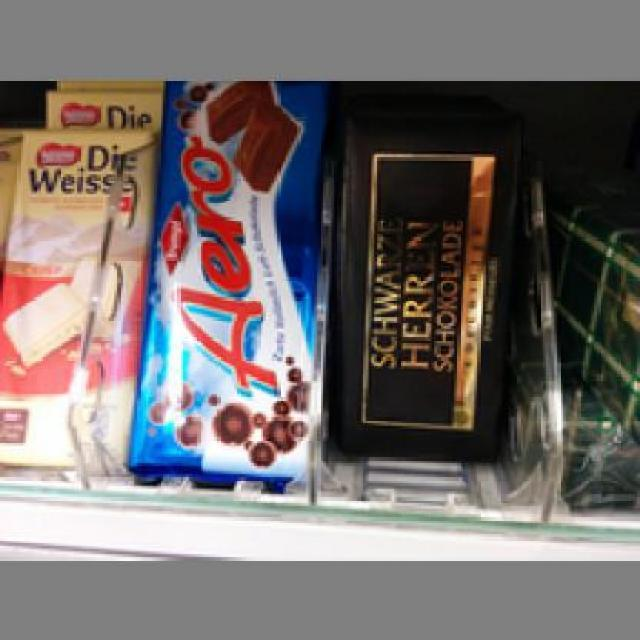Chocolate bar: (137, 83, 317, 480), (337, 114, 520, 457), (2, 128, 152, 472)
